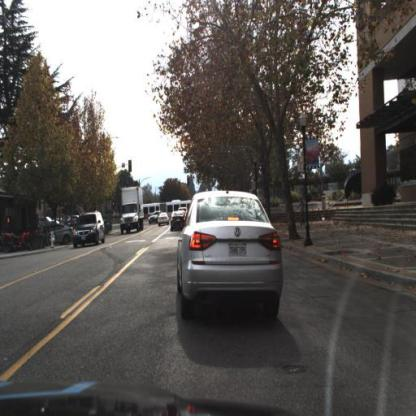car: (172, 188, 283, 323), (70, 208, 107, 250), (40, 223, 74, 246), (171, 213, 187, 234), (159, 212, 170, 227)
pedestrian: (298, 194, 306, 229)
trafficLight-Red: (187, 174, 192, 186)
truck: (122, 189, 145, 233), (143, 202, 191, 223)
